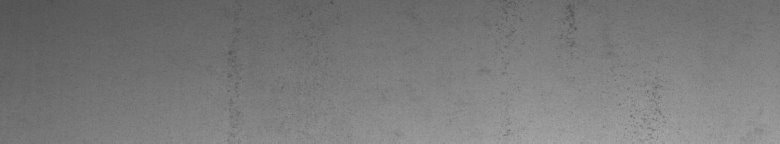ib: (499, 5, 666, 136)
